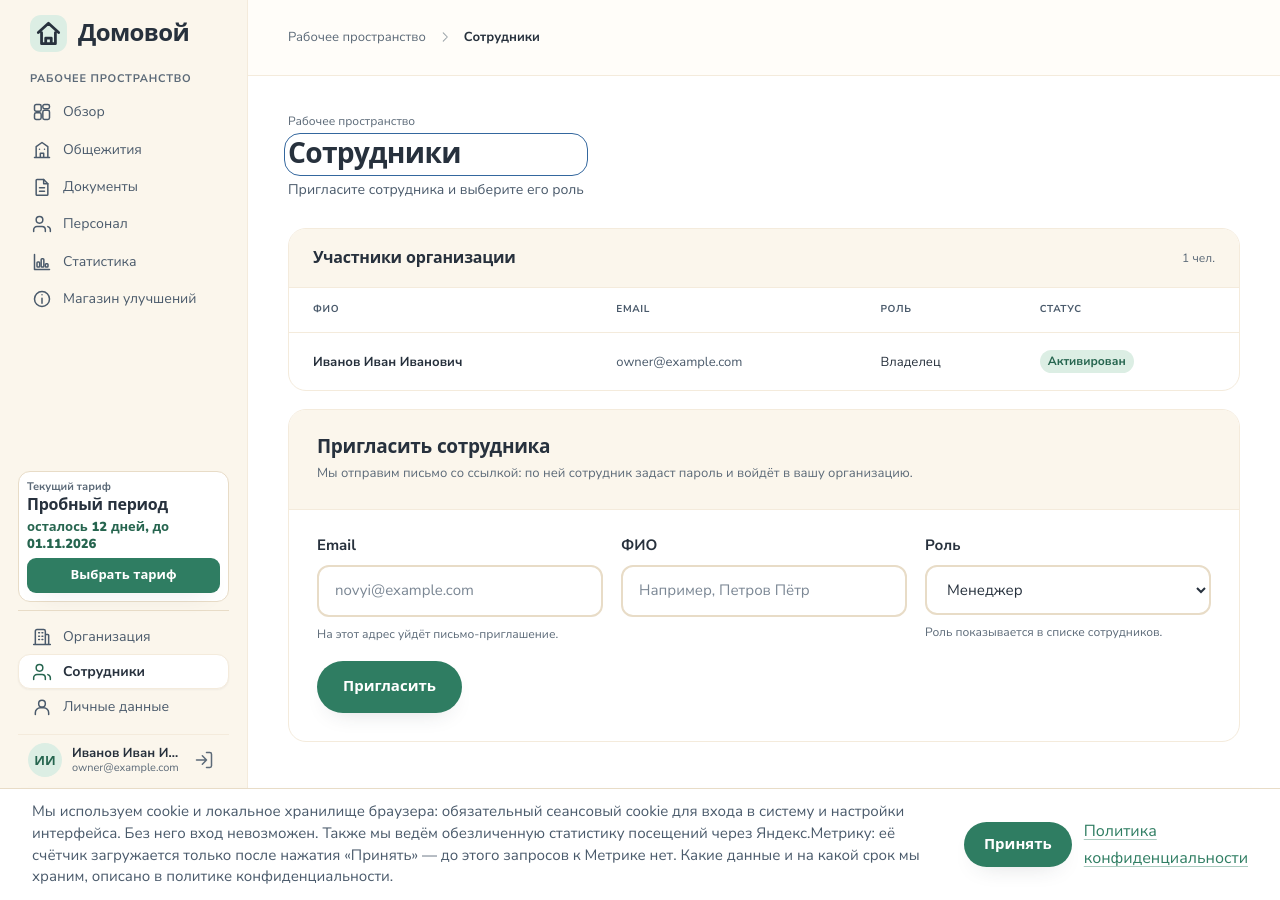
Test: предел мест в организации › без предела не рисует подсказку и не мешает приглашать
Check: the element with test id "members-table" is shown, box [288,228,1240,391]
Check: the button with test id "invite-submit" is enabled, box [317,661,462,713]
Type "chetvertyi@example.com" into the field with test id "invite-email" at (460, 591), box [317,566,603,617]
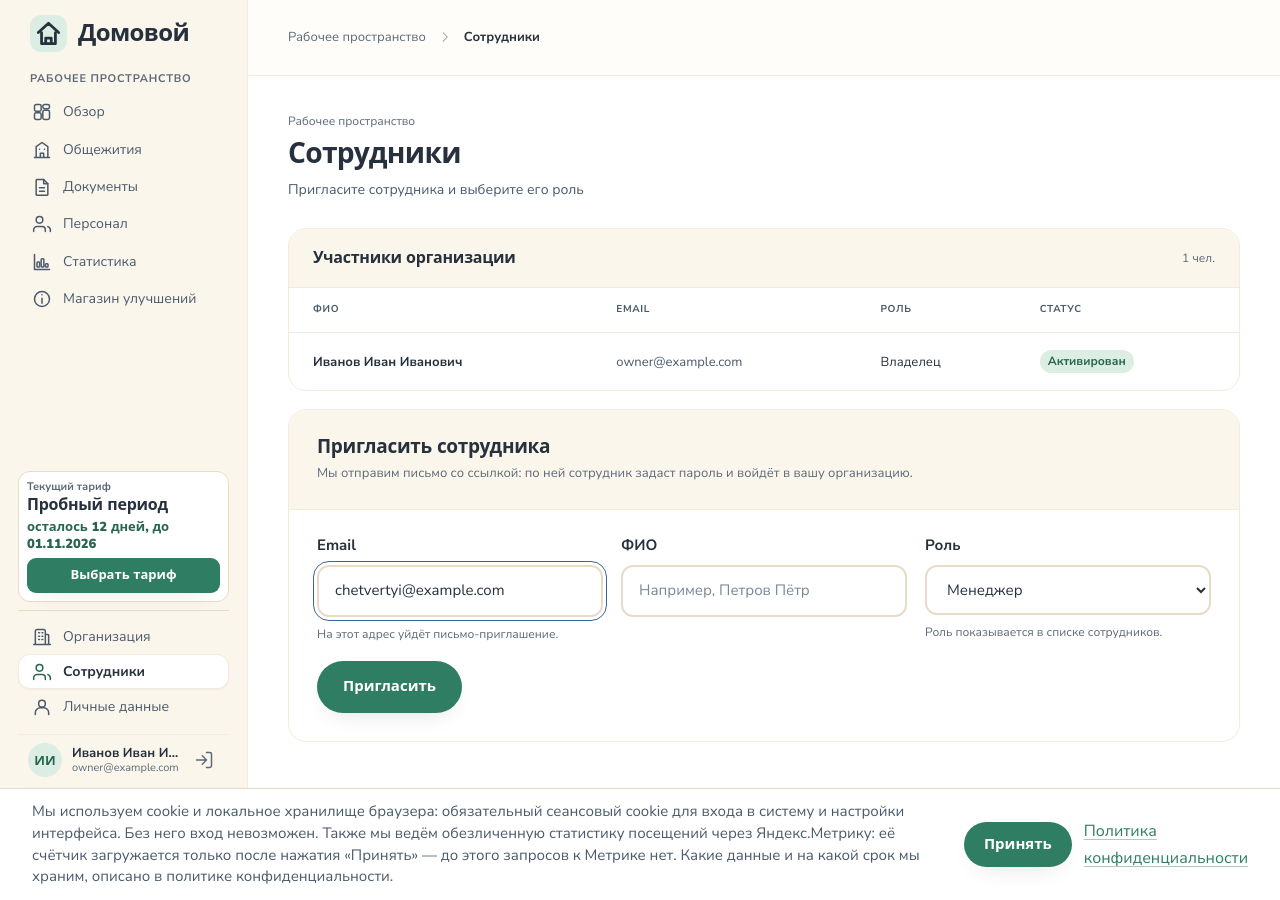
Type "Петров Пётр" into the field with test id "invite-full-name" at (764, 591), box [621,566,907,617]
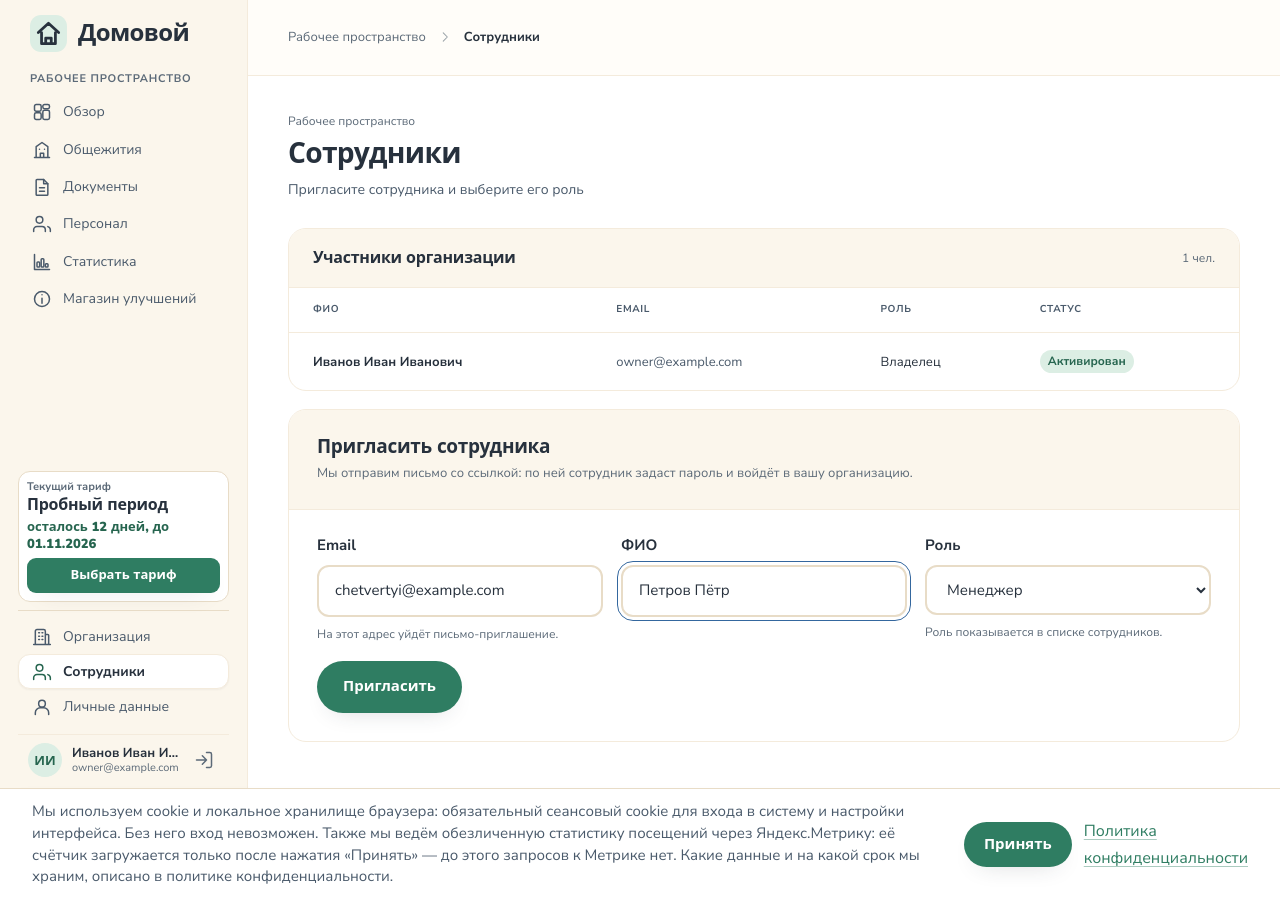
Click the button with test id "invite-submit" at (390, 687), box [317,661,462,713]
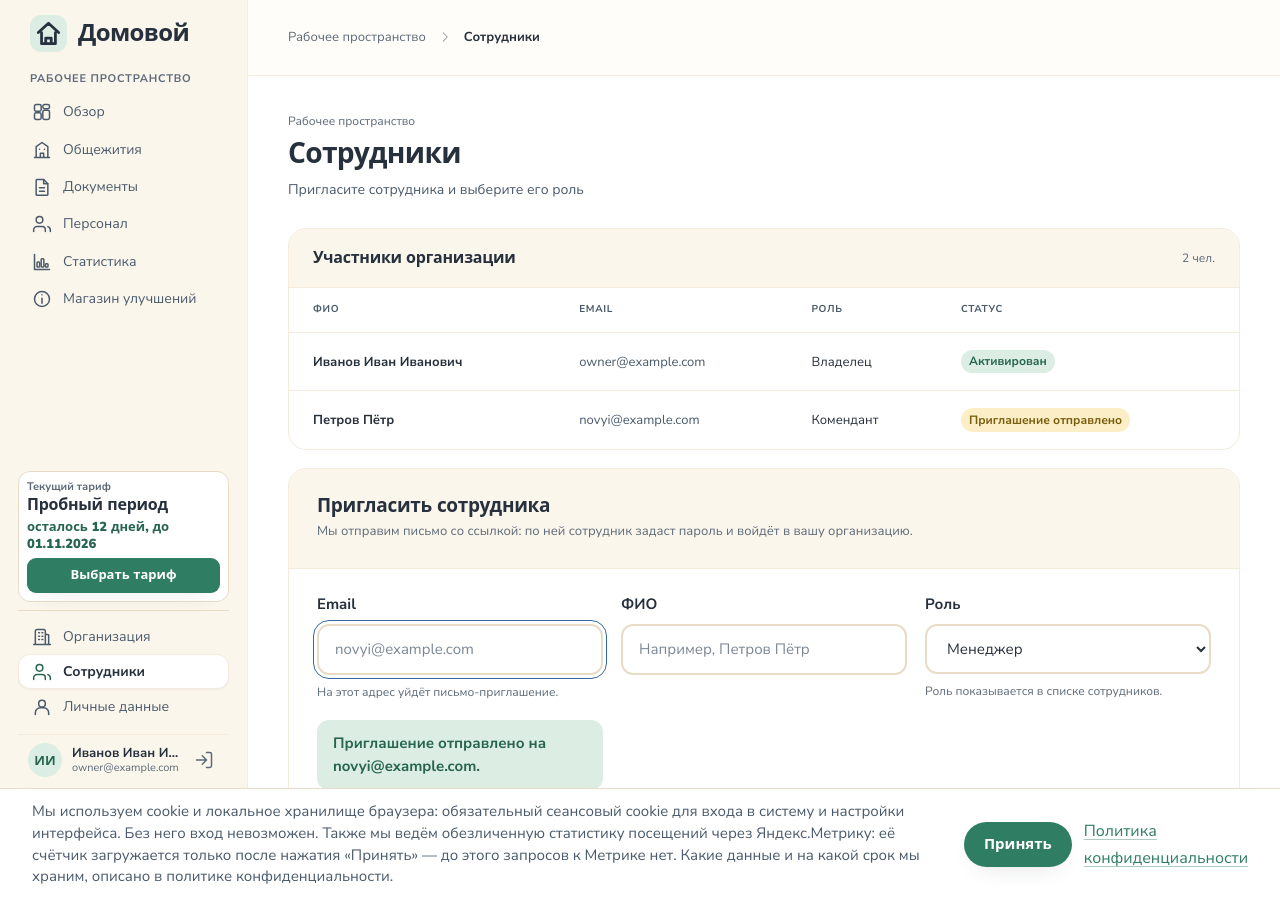
Check: the message "Приглашение отправлено на novyi@example.com." is shown, box [317,720,603,790]
